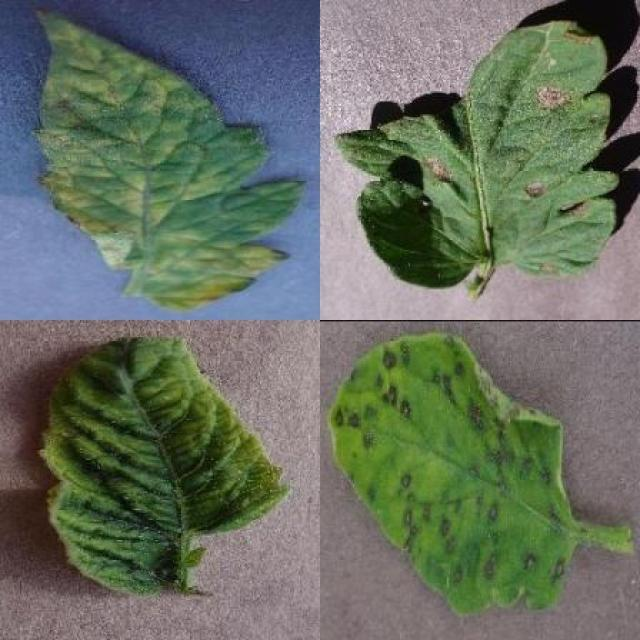Early Blight: (337, 18, 619, 292)
Leaf Mold: (36, 6, 307, 311)
Septoria: (326, 332, 576, 615)
Yellow Leaf Curl Virus: (40, 335, 291, 598)
